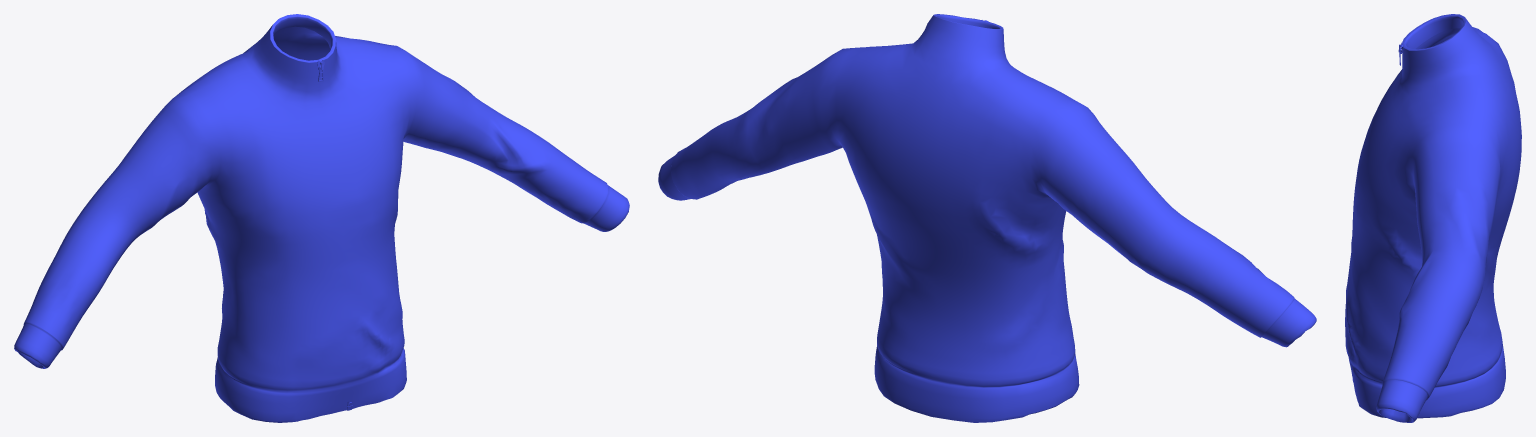
File: Blue Adidas.gltf
3 renders of one model, left to right at view 1: azimuth 30°, elevation 25°; view 2: azimuth 150°, elevation 25°; view 3: azimuth 270°, elevation 25°, orthographic. The views are drawn at different scales.
Visible parts, largest first — view 1: zdxvz1:Jacket_Low; view 2: zdxvz1:Jacket_Low; view 3: zdxvz1:Jacket_Low.
Part boxes in pixels (bbox=[...]): zdxvz1:Jacket_Low: bbox=[14, 14, 629, 422]; zdxvz1:Jacket_Low: bbox=[658, 14, 1316, 422]; zdxvz1:Jacket_Low: bbox=[1345, 14, 1521, 422].
Size of the model in its own units: 0.1 by 0.0558 by 0.0248.
